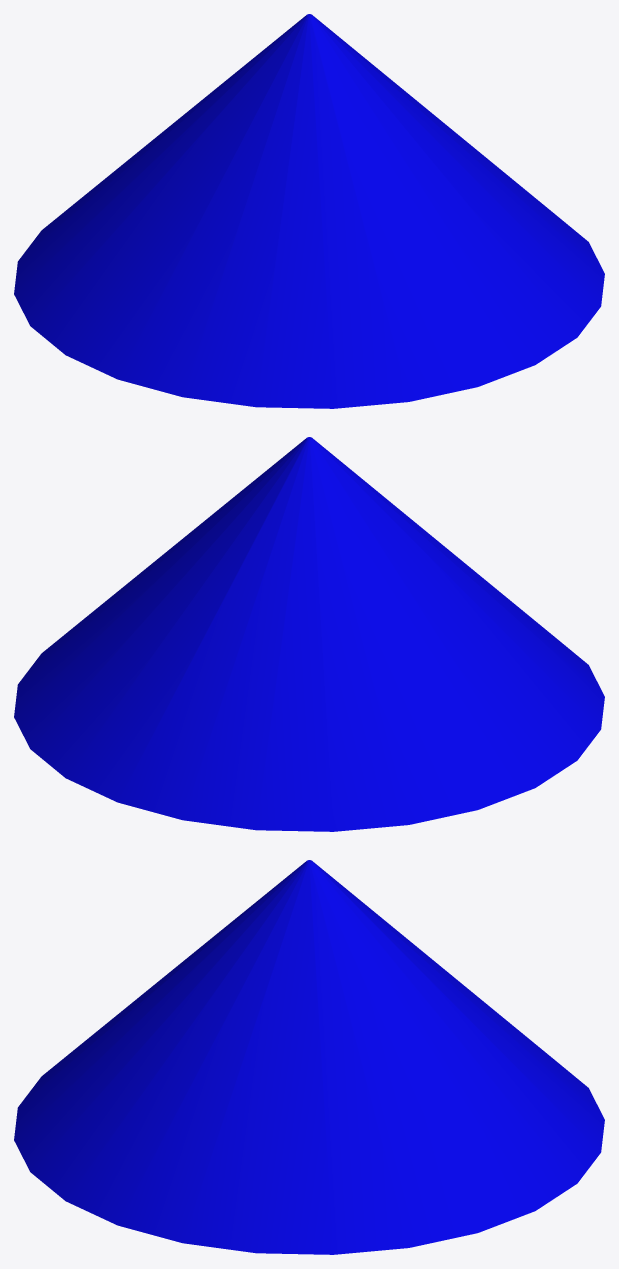
Rendered from NagaiJuniorHishSchool.glb.
3 renders of one model, top to bottom at view 1: azimuth 30°, elevation 25°; view 2: azimuth 150°, elevation 25°; view 3: azimuth 270°, elevation 25°, orthographic.
Visible parts, largest first — view 1: Geom3D; view 2: Geom3D; view 3: Geom3D.
Part boxes in pixels (x1=…): Geom3D: x1=14, y1=14, x2=604, y2=408; Geom3D: x1=14, y1=437, x2=604, y2=831; Geom3D: x1=14, y1=860, x2=604, y2=1254.
Size of the model in its own units: 1.99 by 1 by 1.99.
